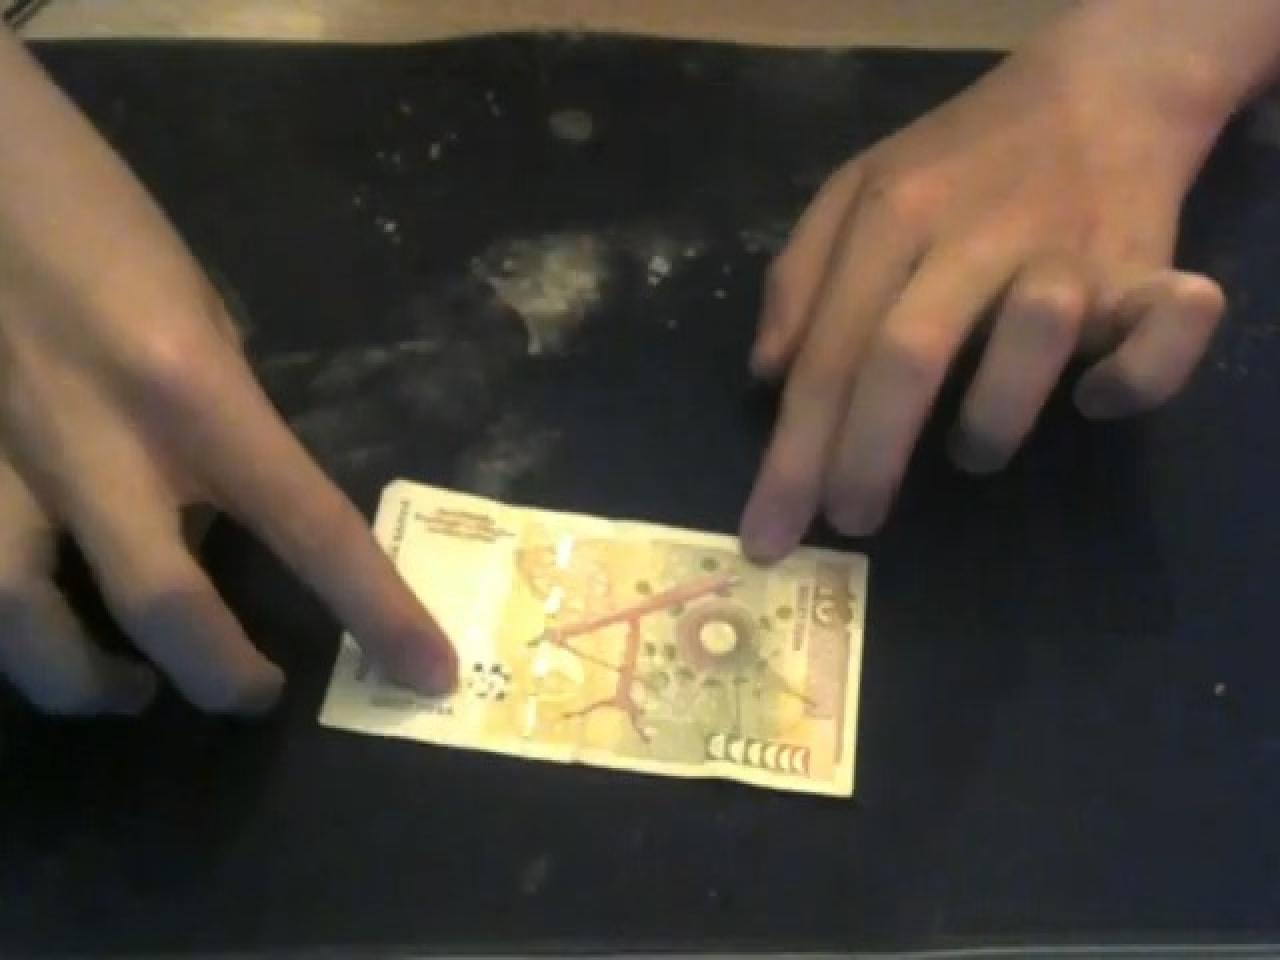10leva: (316, 475, 872, 803)
